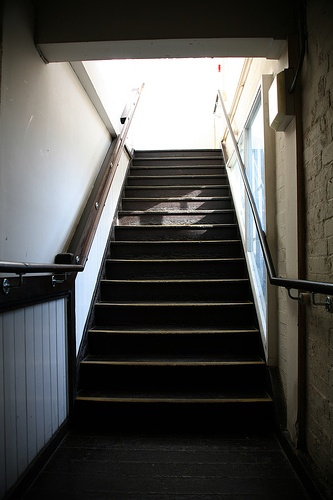stairs_up: (78, 146, 267, 458)
